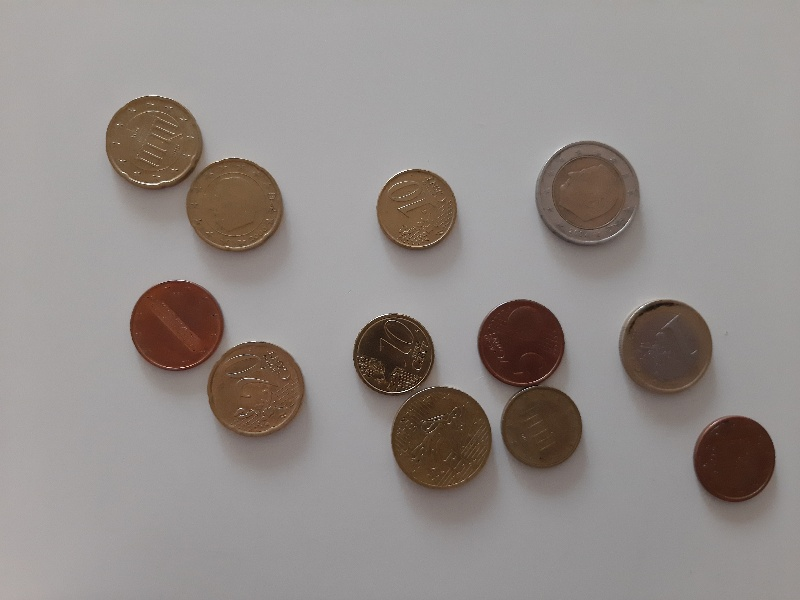1 euro: (615, 297, 717, 400)
10 cent: (499, 385, 589, 468), (352, 311, 438, 394), (376, 167, 458, 252)
2 euro: (533, 138, 643, 251)
20 cent: (185, 154, 286, 253), (206, 341, 306, 439), (104, 93, 204, 190)
5 cent: (128, 278, 227, 372), (475, 298, 568, 388), (691, 414, 779, 505)
50 cent: (391, 386, 497, 491)
